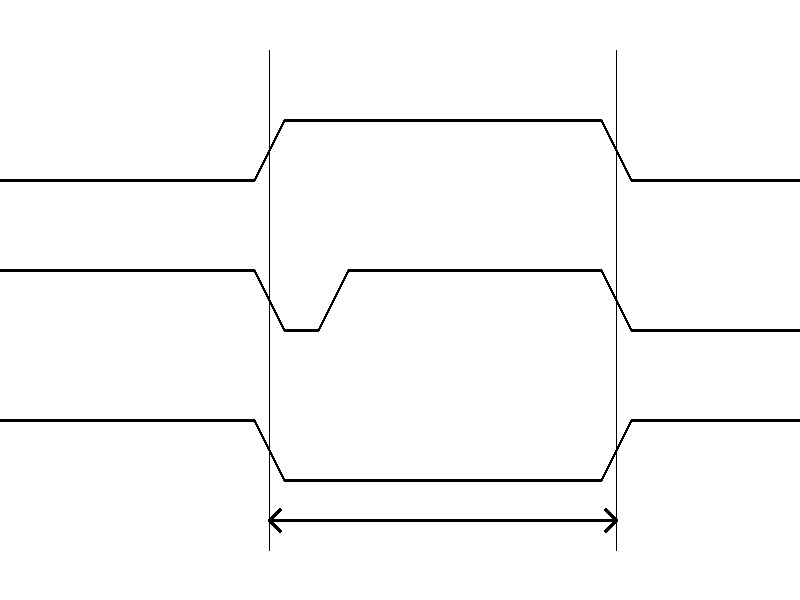double_arrow: (269, 505, 616, 535)
